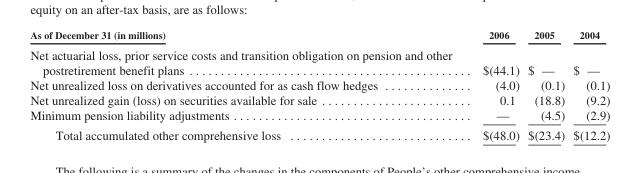table: (29, 28, 609, 142)
table column: (29, 28, 466, 142), (466, 28, 523, 142), (523, 28, 568, 142), (568, 28, 609, 142)
table column header: (29, 28, 609, 43)
table row: (29, 43, 609, 76), (29, 124, 609, 142), (29, 107, 609, 124), (29, 76, 609, 92), (29, 28, 609, 43), (29, 92, 609, 107)
